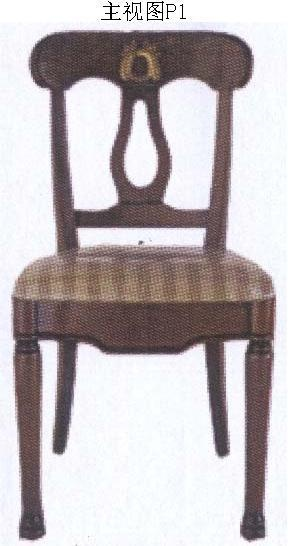obstacle: (13, 31, 274, 539)
